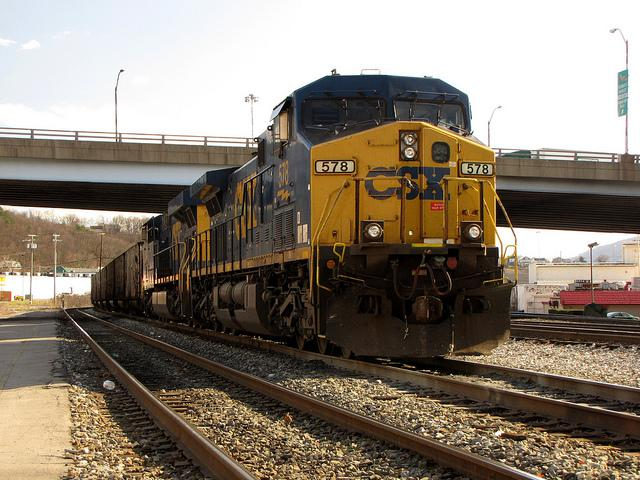Train: (87, 73, 517, 363)
